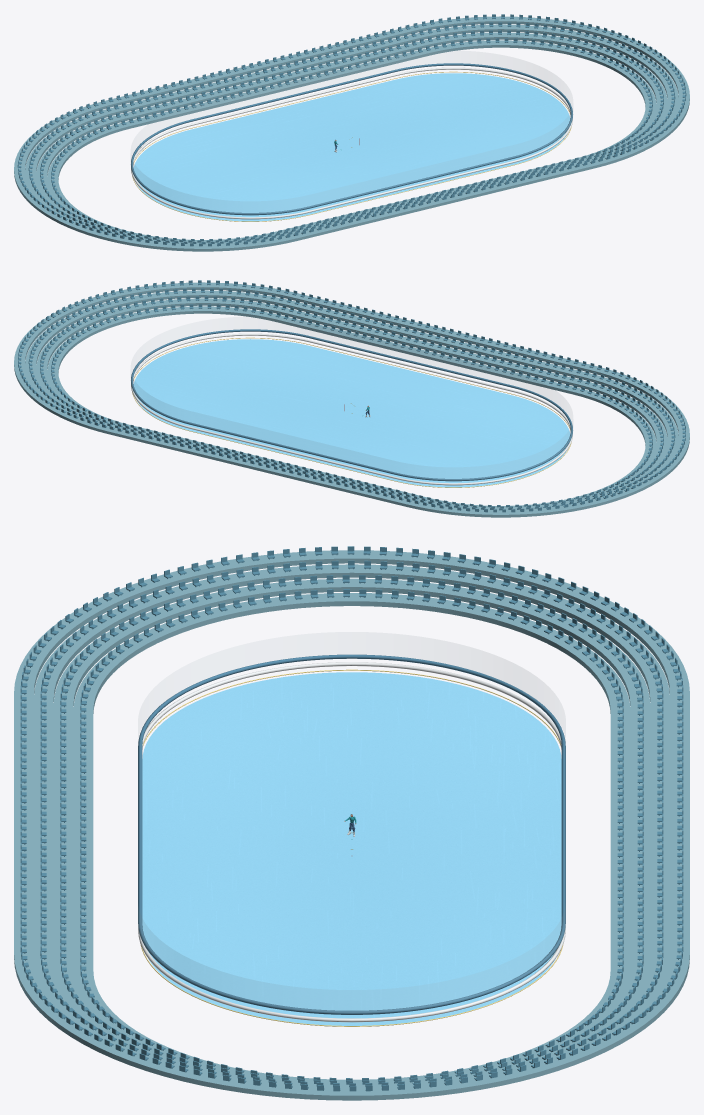
The model's file is single-axel-1a-human-rink-v108-web.glb.
3 views of the same model, one above another, from view 1: azimuth 30°, elevation 25°; view 2: azimuth 150°, elevation 25°; view 3: azimuth 270°, elevation 25° (orthographic). The views are drawn at different scales.
Parts seen in each view (by area): view 1: V23 capsule ice · 60 m × 30 m (30 m straights + semicircles), V23 · continuous capsule tier 4, V23 · continuous capsule tier 3, V23 · continuous capsule tier 1, V23 · continuous capsule tier 2, V23 · empty seat row 4 · 204 seats, V23 · empty seat row 3 · 196 seats, V23 · empty seat row 2 · 189 seats, V23 · empty seat row 1 · 181 seats, V23 continuous capsule top cap, V23 continuous capsule boards, V23 continuous capsule kick plate; view 2: V23 capsule ice · 60 m × 30 m (30 m straights + semicircles), V23 · continuous capsule tier 4, V23 · continuous capsule tier 3, V23 · continuous capsule tier 2, V23 · continuous capsule tier 1, V23 · empty seat row 4 · 204 seats, V23 · empty seat row 3 · 196 seats, V23 · empty seat row 2 · 189 seats, V23 · empty seat row 1 · 181 seats, V23 continuous capsule top cap, V23 continuous capsule boards, V23 continuous capsule kick plate; view 3: V23 capsule ice · 60 m × 30 m (30 m straights + semicircles), V23 · continuous capsule tier 4, V23 · continuous capsule tier 3, V23 · continuous capsule tier 2, V23 · continuous capsule tier 1, V23 · empty seat row 4 · 204 seats, V23 · empty seat row 3 · 196 seats, V23 · empty seat row 2 · 189 seats, V23 · empty seat row 1 · 181 seats, V23 continuous capsule top cap, V23 continuous capsule boards, V23 continuous capsule kick plate.
Part boxes in pixels (<box>): V23 capsule ice · 60 m × 30 m (30 m straights + semicircles): <box>133,73,570,221</box>; V23 · continuous capsule tier 4: <box>14,16,689,251</box>; V23 · continuous capsule tier 3: <box>25,24,678,244</box>; V23 · continuous capsule tier 1: <box>47,40,656,241</box>; V23 · continuous capsule tier 2: <box>36,32,667,242</box>; V23 · empty seat row 4 · 204 seats: <box>17,14,686,246</box>; V23 · empty seat row 3 · 196 seats: <box>28,22,675,244</box>; V23 · empty seat row 2 · 189 seats: <box>40,30,663,242</box>; V23 · empty seat row 1 · 181 seats: <box>51,38,652,241</box>; V23 continuous capsule top cap: <box>131,63,572,215</box>; V23 continuous capsule boards: <box>131,67,572,219</box>; V23 continuous capsule kick plate: <box>132,71,571,221</box>; V23 capsule ice · 60 m × 30 m (30 m straights + semicircles): <box>133,339,570,487</box>; V23 · continuous capsule tier 4: <box>14,282,689,517</box>; V23 · continuous capsule tier 3: <box>25,290,678,510</box>; V23 · continuous capsule tier 2: <box>36,298,667,508</box>; V23 · continuous capsule tier 1: <box>47,306,656,507</box>; V23 · empty seat row 4 · 204 seats: <box>18,280,685,512</box>; V23 · empty seat row 3 · 196 seats: <box>28,288,675,510</box>; V23 · empty seat row 2 · 189 seats: <box>40,296,663,508</box>; V23 · empty seat row 1 · 181 seats: <box>51,304,652,507</box>; V23 continuous capsule top cap: <box>131,329,572,481</box>; V23 continuous capsule boards: <box>131,333,572,485</box>; V23 continuous capsule kick plate: <box>132,337,571,487</box>; V23 capsule ice · 60 m × 30 m (30 m straights + semicircles): <box>142,672,561,1025</box>; V23 · continuous capsule tier 4: <box>14,550,689,1100</box>; V23 · continuous capsule tier 3: <box>34,564,669,1087</box>; V23 · continuous capsule tier 2: <box>53,578,650,1084</box>; V23 · continuous capsule tier 1: <box>73,593,630,1082</box>; V23 · empty seat row 4 · 204 seats: <box>20,546,683,1091</box>; V23 · empty seat row 3 · 196 seats: <box>40,560,663,1087</box>; V23 · empty seat row 2 · 189 seats: <box>60,575,643,1084</box>; V23 · empty seat row 1 · 181 seats: <box>80,589,623,1081</box>; V23 continuous capsule top cap: <box>138,654,565,1014</box>; V23 continuous capsule boards: <box>138,662,565,1022</box>; V23 continuous capsule kick plate: <box>140,669,563,1026</box>.
Size of the model in its own units: 92.36 by 3.04 by 48.36.
Materials: 24 (1 with a texture image).
